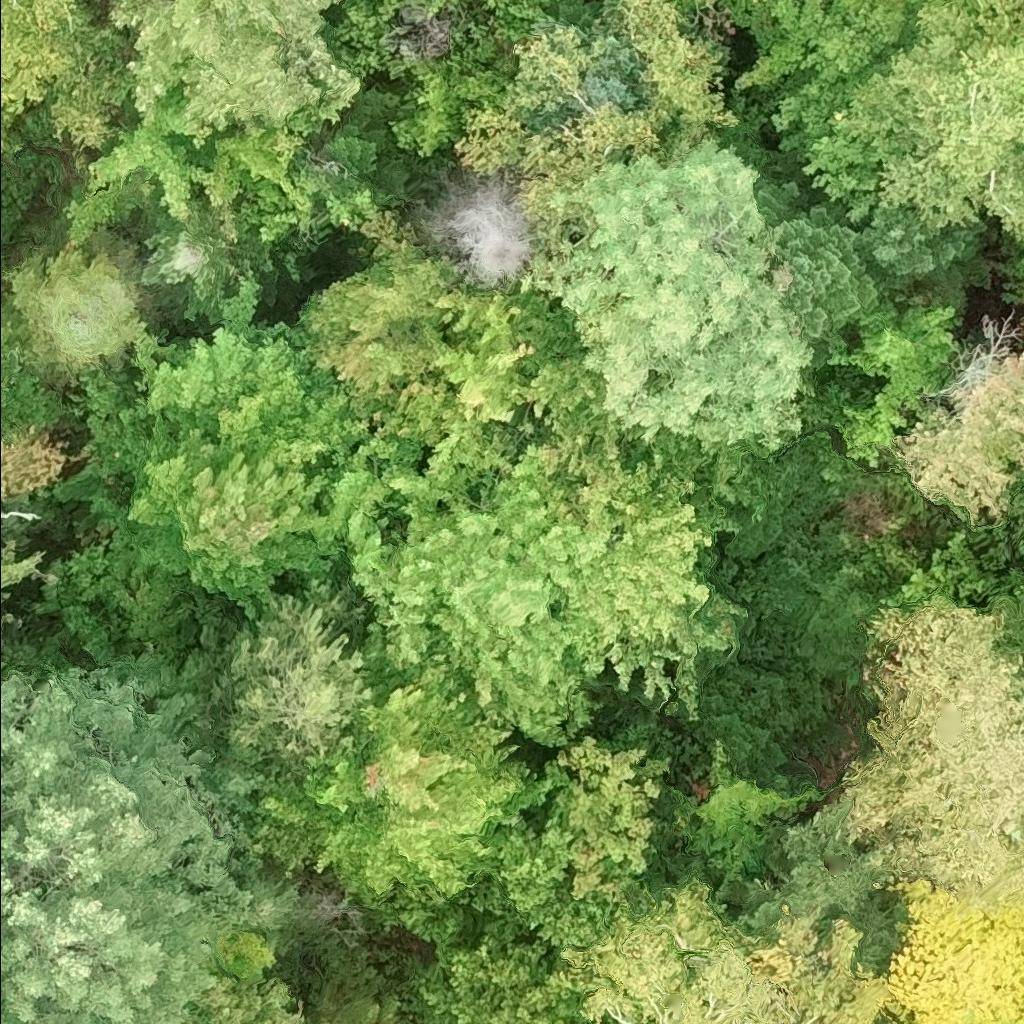crown: (340, 419, 750, 751), (249, 650, 570, 952), (0, 666, 260, 1023), (124, 335, 429, 619), (543, 136, 814, 451), (451, 0, 744, 230), (837, 588, 1023, 896), (782, 0, 1023, 237), (355, 284, 585, 507), (560, 876, 893, 1023), (160, 36, 370, 245), (211, 575, 378, 779), (109, 0, 357, 117), (811, 288, 965, 469), (289, 239, 458, 399), (127, 259, 291, 423), (1, 223, 167, 384), (734, 0, 927, 130), (889, 346, 1023, 527), (757, 178, 894, 344), (546, 735, 669, 917), (0, 0, 140, 156), (879, 872, 1023, 1023), (61, 107, 214, 246), (398, 919, 602, 1023), (488, 815, 616, 953), (401, 167, 538, 293), (854, 203, 992, 305), (384, 52, 508, 163), (140, 196, 237, 328), (298, 104, 415, 204), (525, 351, 621, 435), (192, 968, 304, 1023), (0, 423, 71, 501), (239, 849, 304, 932), (582, 32, 648, 109), (0, 536, 55, 615), (302, 989, 417, 1023), (970, 857, 1023, 905), (370, 0, 459, 21), (713, 0, 773, 31), (1004, 587, 1023, 650), (675, 0, 709, 10), (947, 1017, 985, 1023), (1015, 306, 1023, 332), (481, 0, 498, 7), (0, 626, 2, 643)
